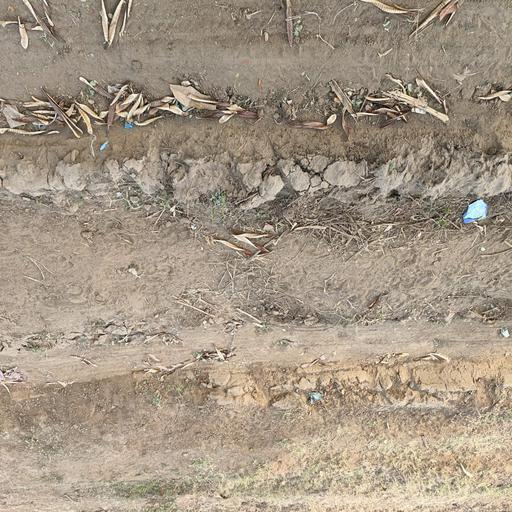vehicle_track: (0, 0, 512, 88), (0, 318, 512, 388)
